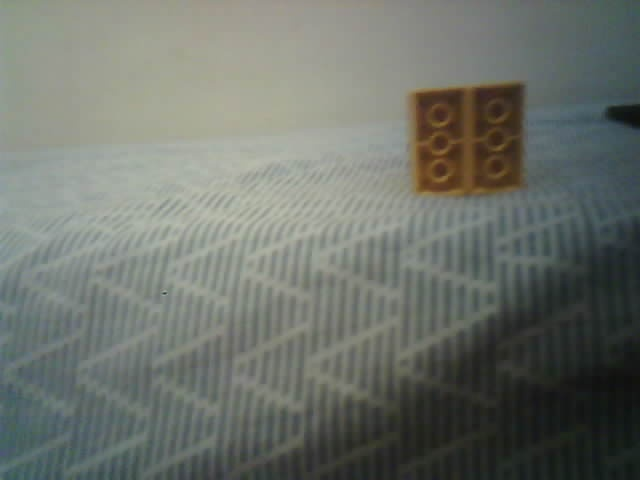lego: (406, 80, 529, 197)
